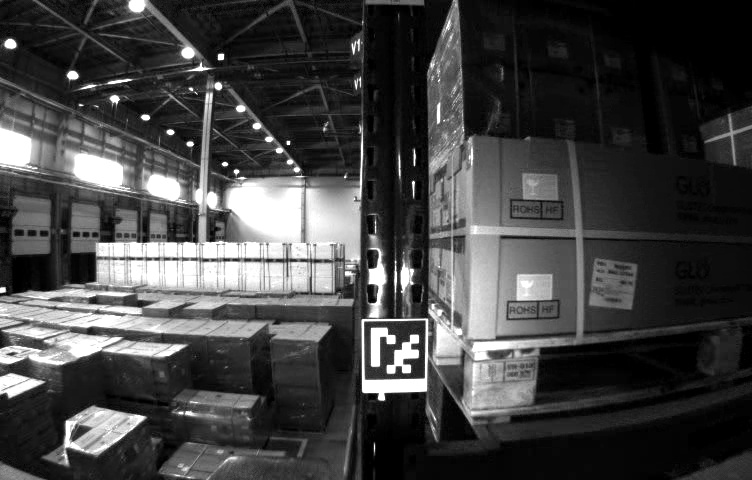True Barcode: (587, 257, 637, 311)
